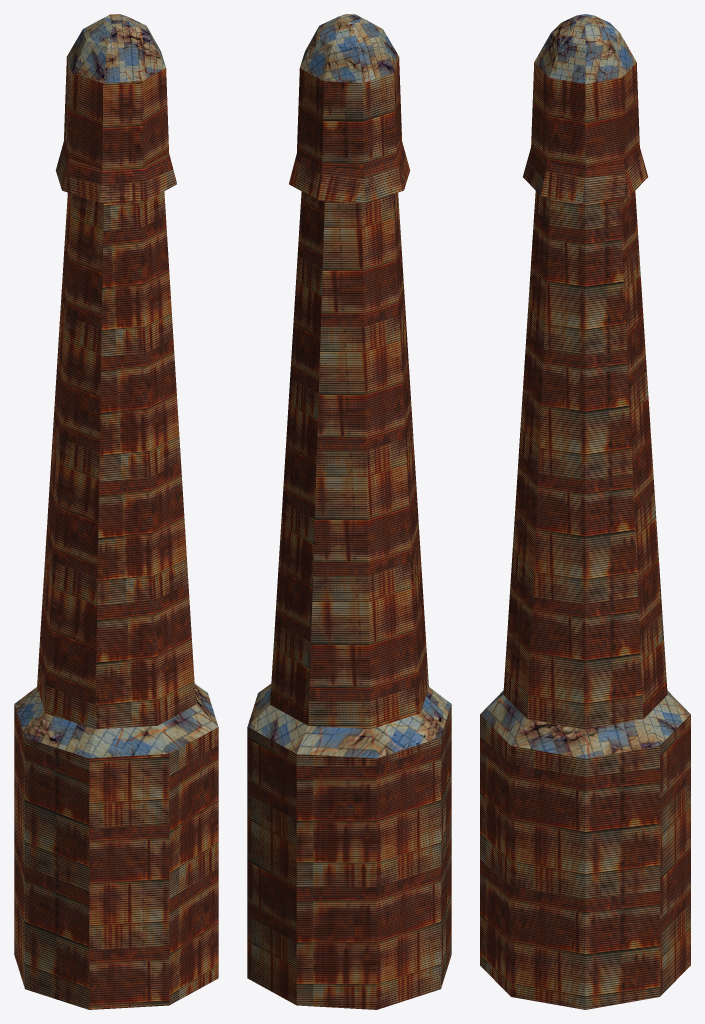
3 views of the same model, side by side, from view 1: azimuth 30°, elevation 25°; view 2: azimuth 150°, elevation 25°; view 3: azimuth 270°, elevation 25° (orthographic).
Parts seen in each view (by area): view 1: 灯台, 灯台.001, 灯台.002; view 2: 灯台, 灯台.001, 灯台.002; view 3: 灯台, 灯台.001, 灯台.002.
Part boxes in pixels (box(x1,y1,x2,y2)): 灯台: box(14, 57, 218, 1009); 灯台.001: box(14, 684, 218, 758); 灯台.002: box(67, 14, 165, 83); 灯台: box(247, 57, 451, 1009); 灯台.001: box(247, 684, 451, 758); 灯台.002: box(300, 14, 398, 83); 灯台: box(480, 62, 690, 1009); 灯台.001: box(480, 690, 690, 758); 灯台.002: box(534, 14, 636, 83).
Size of the model in its own units: 124 by 612 by 124.
2 materials, 2 textured.
